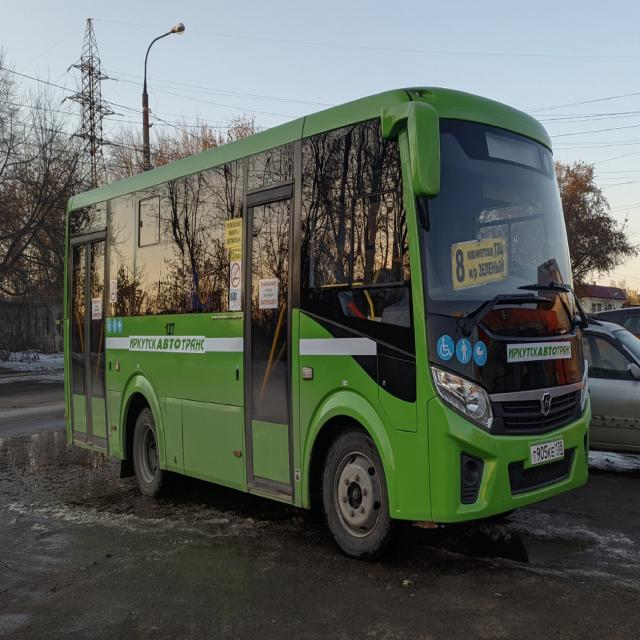number-of-bus: (454, 245, 469, 287)
